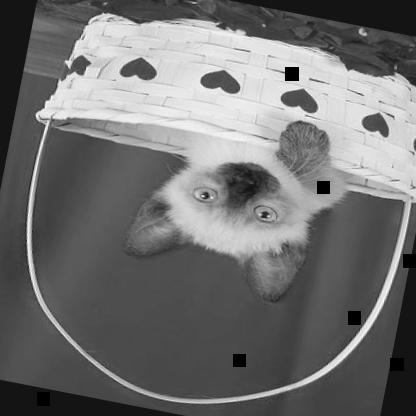cat: (116, 92, 357, 314)
